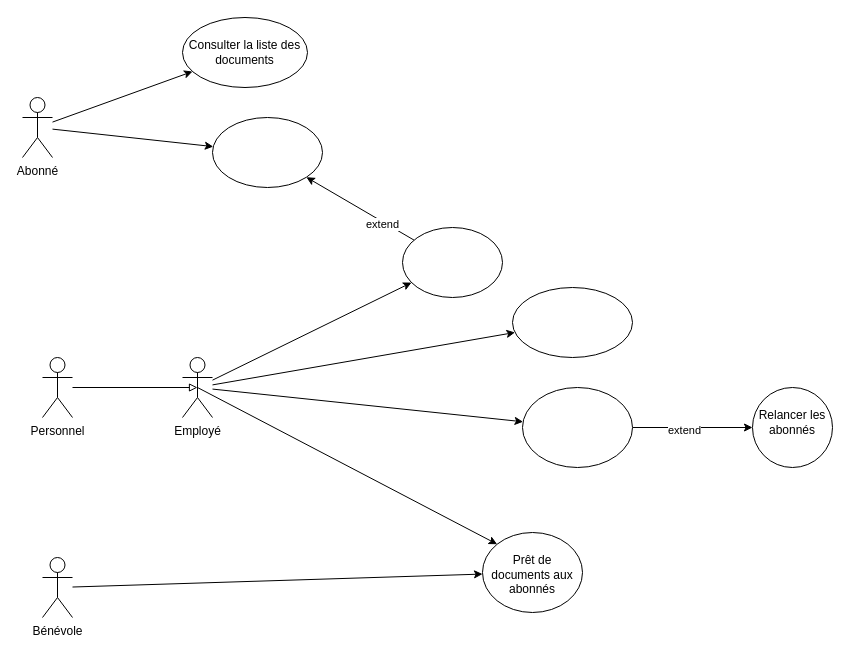
Some shapes in this 850 by 656 pixel diagram are drawn without their labels. The box of each missing label's shape, as (x1, y1, x2, y2) in pixels:
Consulter états des abonnés: (522, 386, 632, 468)
Enregistrer un emprunt: (402, 226, 502, 298)
Réaliser inscription nouveaux abonnés: (512, 286, 632, 358)
Réaliser un emprunt: (212, 116, 322, 188)
